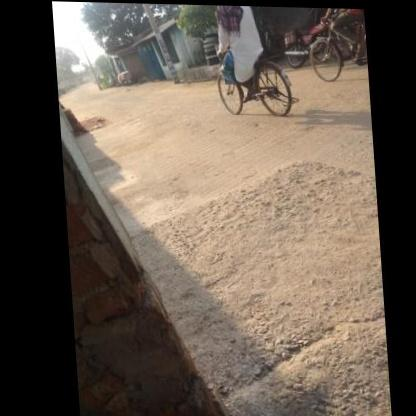Bicycle: (196, 39, 306, 122)
